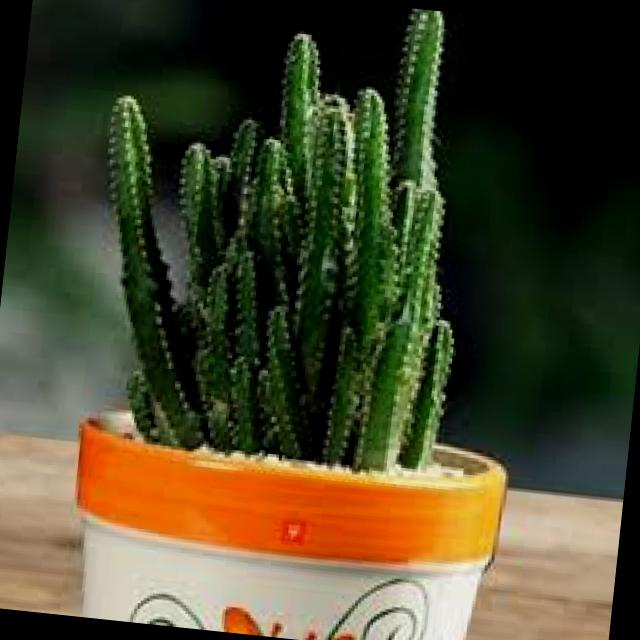cactus: (38, 0, 542, 502)
